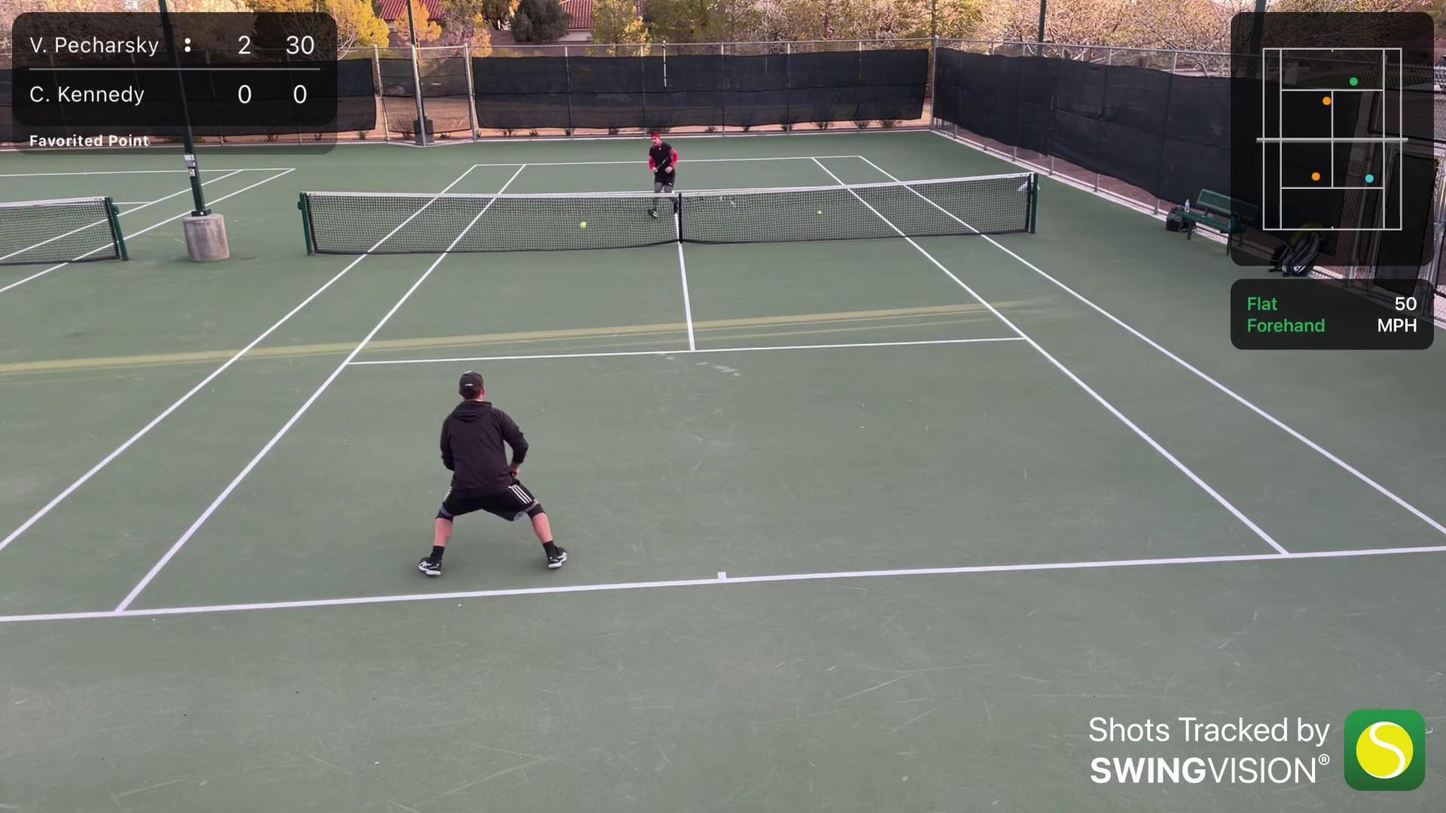ball: (579, 221, 587, 229), (816, 210, 824, 215)
